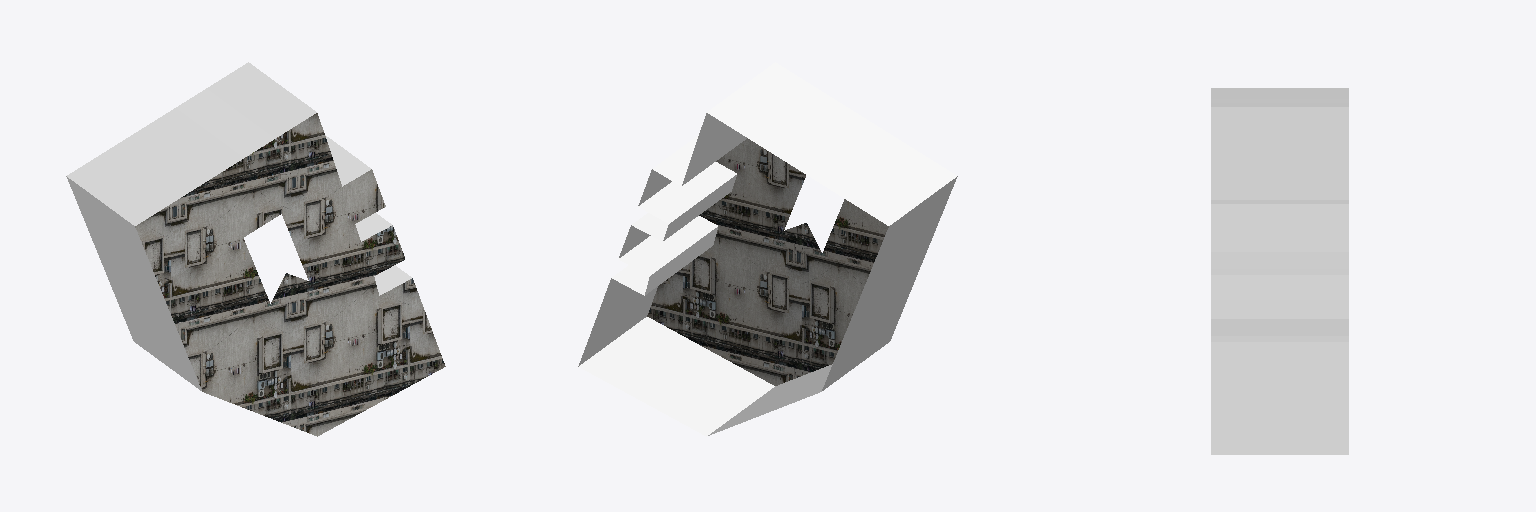
3 views of the same model, side by side, from view 1: azimuth 30°, elevation 25°; view 2: azimuth 150°, elevation 25°; view 3: azimuth 270°, elevation 25° (orthographic).
Parts seen in each view (by area): view 1: Building; view 2: Building; view 3: Building.
Boxes of the visible parts, x1,y1,x2,y2 form: Building: [66, 62, 445, 436]; Building: [578, 62, 957, 436]; Building: [1211, 88, 1348, 454].
Size of the model in its own units: 31.28 by 31.2 by 12.
Materials: 2 (1 with a texture image).